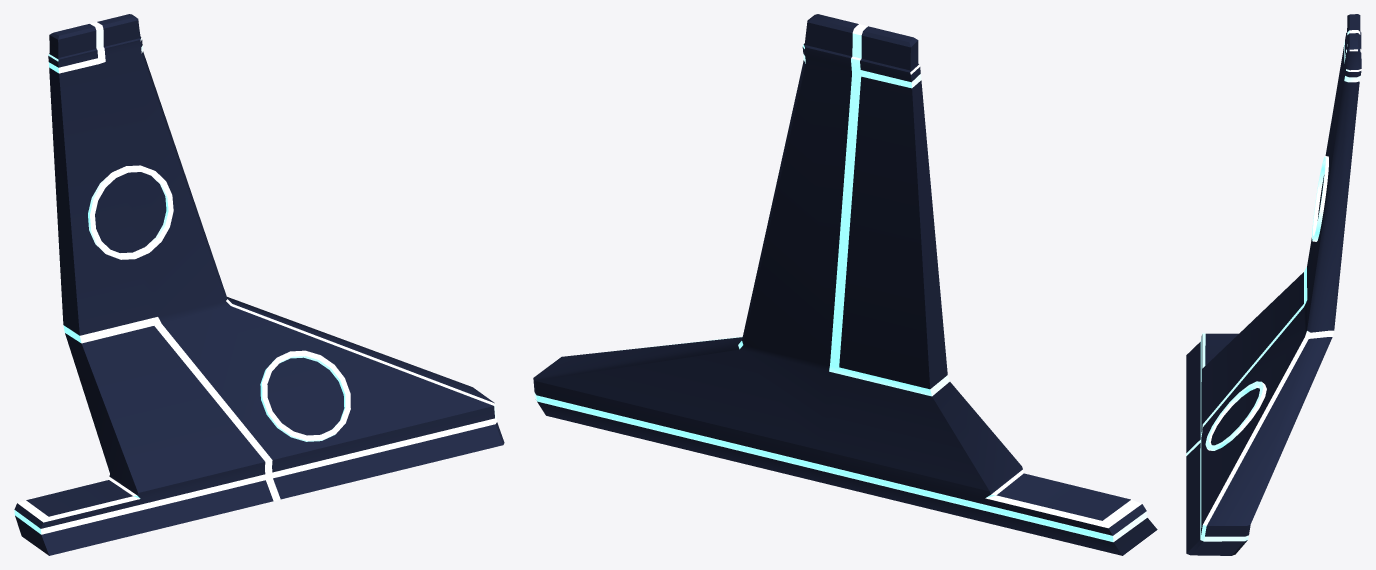
The model's file is Tower_Skinny2.fbx.
The picture shows the model from 3 angles, left to right: view 1: azimuth 30°, elevation 25°; view 2: azimuth 150°, elevation 25°; view 3: azimuth 270°, elevation 25°; orthographic projection. The views are drawn at different scales.
Parts seen in each view (by area): view 1: Tower_Skinny2; view 2: Tower_Skinny2; view 3: Tower_Skinny2.
Boxes of the visible parts, bbox=[...] form: Tower_Skinny2: bbox=[14, 14, 504, 555]; Tower_Skinny2: bbox=[533, 14, 1157, 555]; Tower_Skinny2: bbox=[1186, 14, 1361, 555].
Bounding box in the file's own units: 1666 × 1496 × 616.
